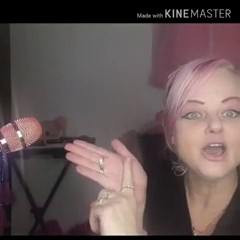L: (59, 131, 162, 235)
